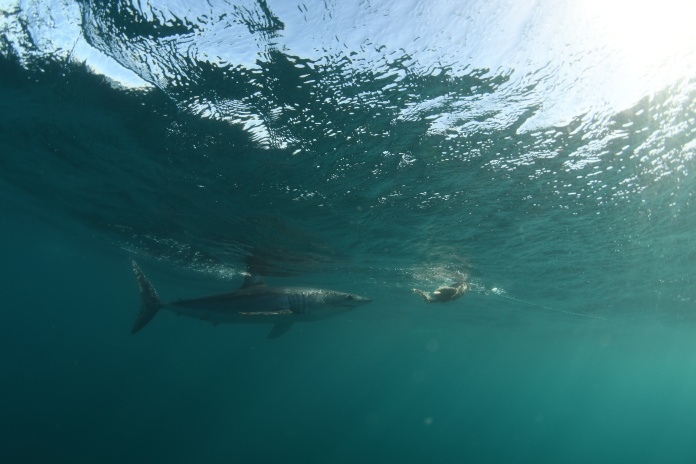Mako: (111, 245, 390, 357)
